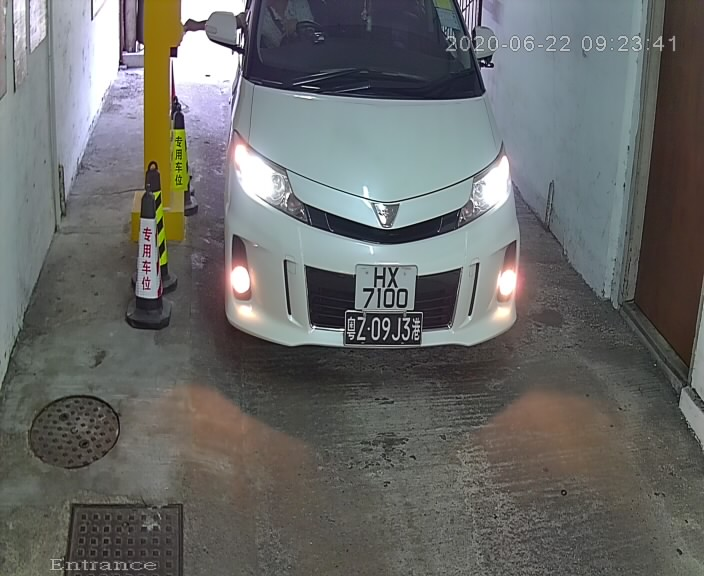privatecar: (210, 1, 557, 379)
